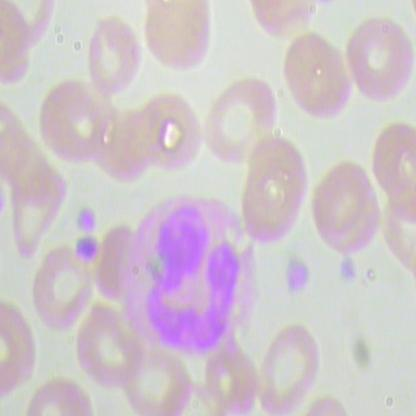Platelets: (278, 250, 314, 297), (72, 198, 100, 238), (338, 250, 360, 290), (74, 236, 99, 266)
RBC: (202, 68, 280, 174), (234, 142, 312, 248), (254, 319, 328, 415), (36, 78, 116, 166), (30, 240, 100, 338), (342, 15, 414, 107), (282, 30, 354, 122), (75, 299, 142, 396), (140, 1, 210, 82), (134, 92, 202, 175), (308, 159, 374, 244), (85, 12, 146, 103), (124, 338, 190, 416)
WBC: (120, 192, 258, 362)
